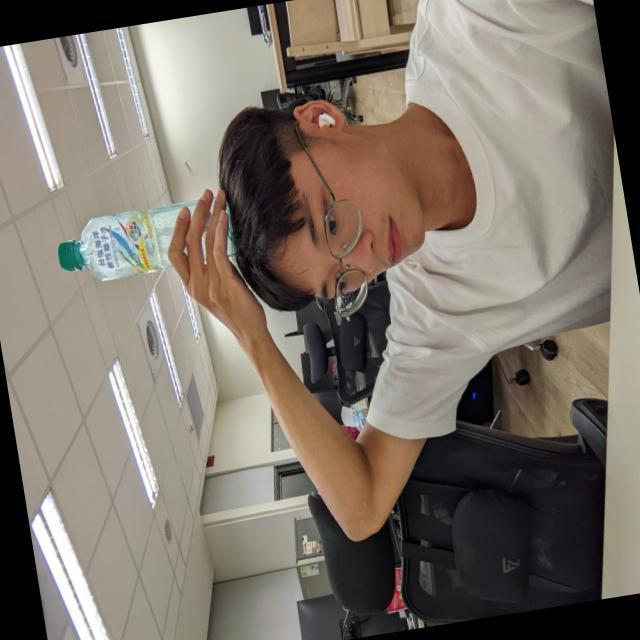good: (42, 180, 240, 298)
